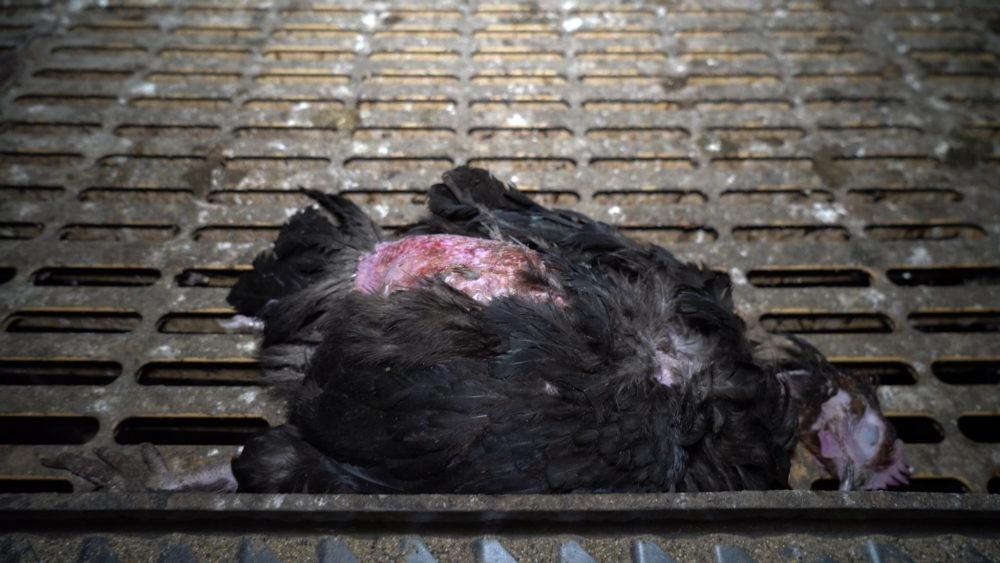AbNormal: (227, 157, 906, 503)
